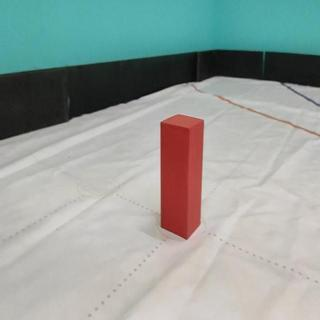redbox: (159, 113, 205, 239)
